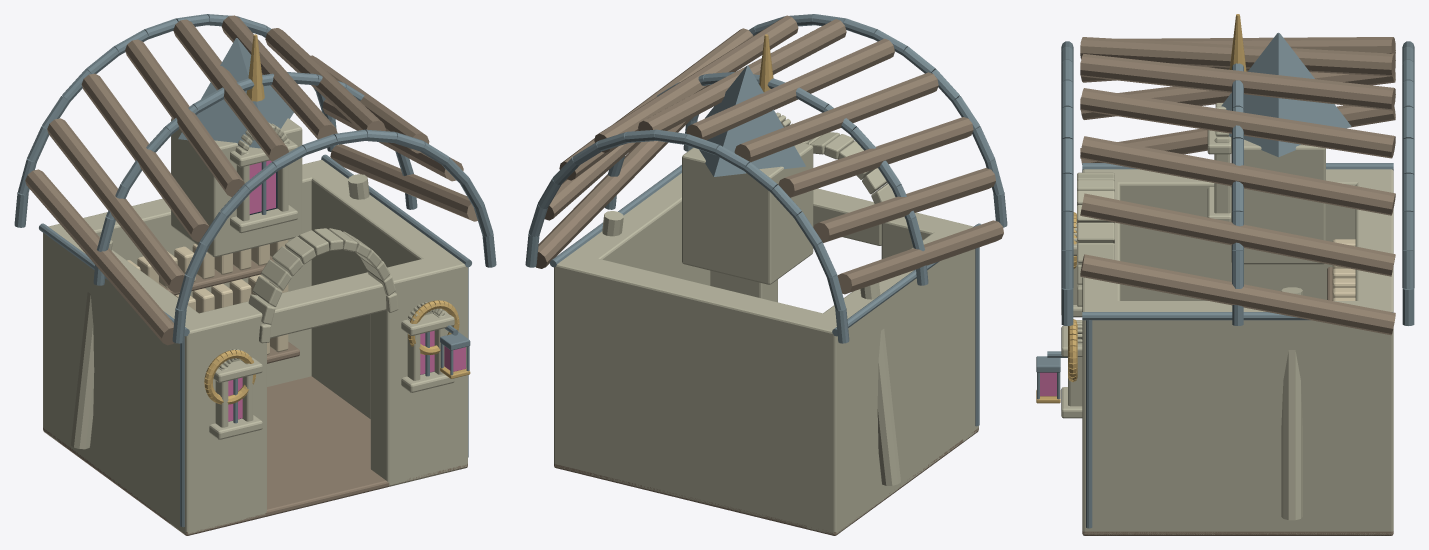
The model's file is a4_service_3.glb.
The picture shows the model from 3 angles, left to right: view 1: azimuth 30°, elevation 25°; view 2: azimuth 150°, elevation 25°; view 3: azimuth 270°, elevation 25°; orthographic projection. The views are drawn at different scales.
Visible parts, largest first — view 1: Roof.015, Side.015, Front.015, Body.033; view 2: Roof.015, Body.033, Side.015, Front.015; view 3: Side.015, Roof.015, Body.033, Front.015.
Part boxes in pixels (bbox=[...]): Roof.015: bbox=[14, 14, 496, 345]; Side.015: bbox=[43, 161, 468, 534]; Front.015: bbox=[170, 228, 470, 534]; Body.033: bbox=[43, 160, 467, 535]; Roof.015: bbox=[525, 14, 1007, 343]; Body.033: bbox=[554, 254, 978, 535]; Side.015: bbox=[555, 173, 979, 534]; Front.015: bbox=[710, 132, 978, 441]; Side.015: bbox=[1082, 169, 1393, 534]; Roof.015: bbox=[1061, 14, 1414, 335]; Body.033: bbox=[1082, 169, 1393, 535]; Front.015: bbox=[1036, 169, 1120, 535].
Bounding box in the file's own units: 3.05 × 3.65 × 2.79.
